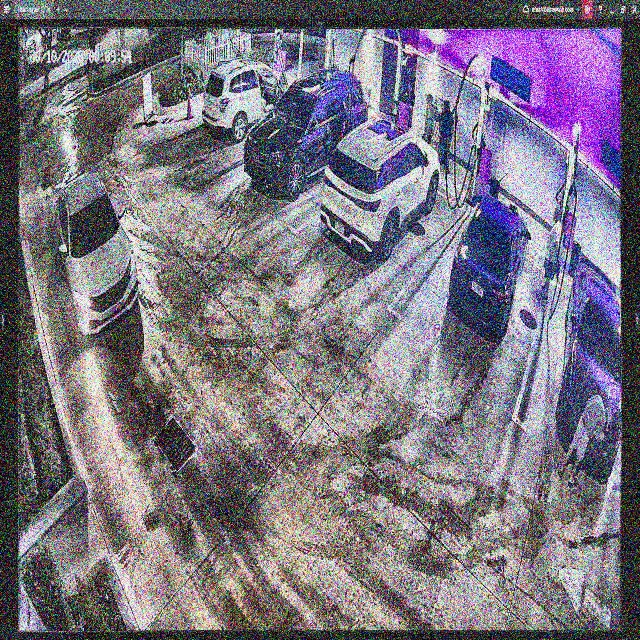Car: (324, 115, 438, 258), (246, 70, 369, 191), (445, 190, 530, 337)
